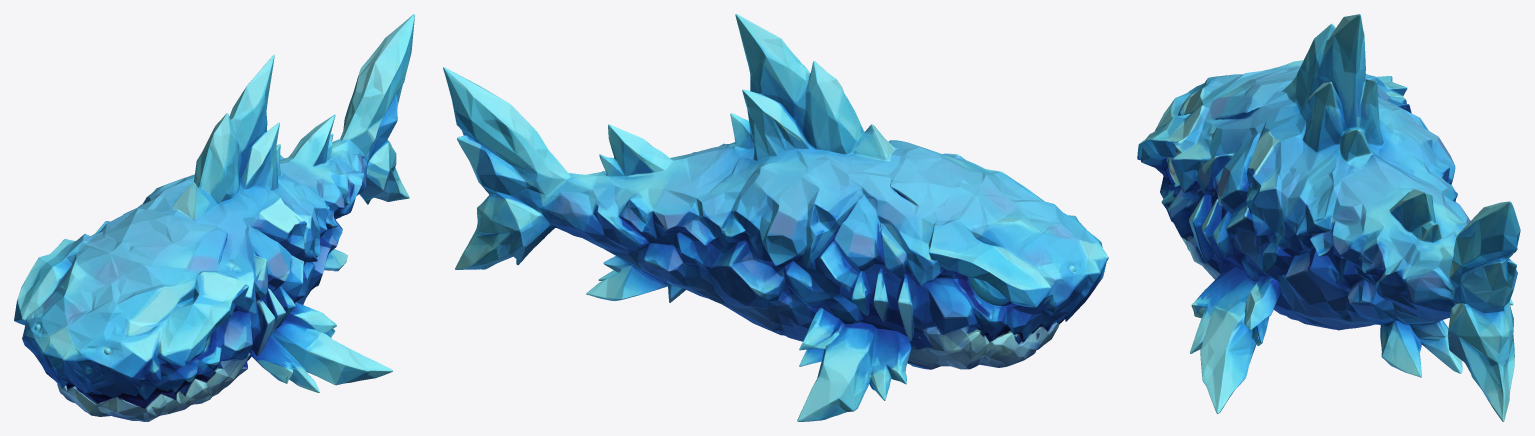
The model's file is fish_mythic_1.glb.
The picture shows the model from 3 angles, left to right: view 1: azimuth 30°, elevation 25°; view 2: azimuth 150°, elevation 25°; view 3: azimuth 270°, elevation 25°; orthographic projection. The views are drawn at different scales.
Visible parts, largest first — view 1: tripo_node_12f670a3-18f4-4131-9ed0-0d256acfbf2b; view 2: tripo_node_12f670a3-18f4-4131-9ed0-0d256acfbf2b; view 3: tripo_node_12f670a3-18f4-4131-9ed0-0d256acfbf2b.
Part boxes in pixels (x1=…): tripo_node_12f670a3-18f4-4131-9ed0-0d256acfbf2b: x1=14, y1=14, x2=414, y2=421; tripo_node_12f670a3-18f4-4131-9ed0-0d256acfbf2b: x1=443, y1=14, x2=1108, y2=421; tripo_node_12f670a3-18f4-4131-9ed0-0d256acfbf2b: x1=1137, y1=14, x2=1520, y2=421.
Bounding box in the file's own units: 0.9798 × 0.5711 × 0.5447.
1 material, 1 textured.
